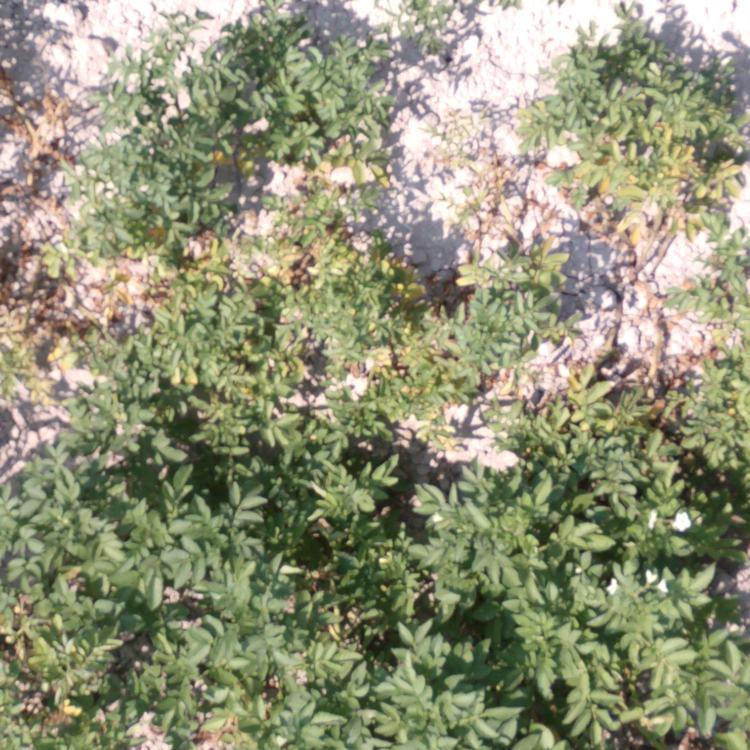healthy: (1, 557, 271, 750), (279, 569, 539, 750), (546, 378, 748, 588), (3, 406, 278, 553), (540, 595, 750, 749), (279, 458, 541, 566), (89, 42, 205, 202), (211, 14, 384, 111), (402, 1, 474, 74), (282, 408, 325, 453), (86, 210, 118, 245)
stressed: (525, 8, 750, 241), (138, 208, 329, 404), (330, 210, 474, 444), (1, 252, 134, 402), (206, 116, 425, 205), (470, 241, 577, 374), (649, 255, 750, 334), (483, 381, 540, 454)
